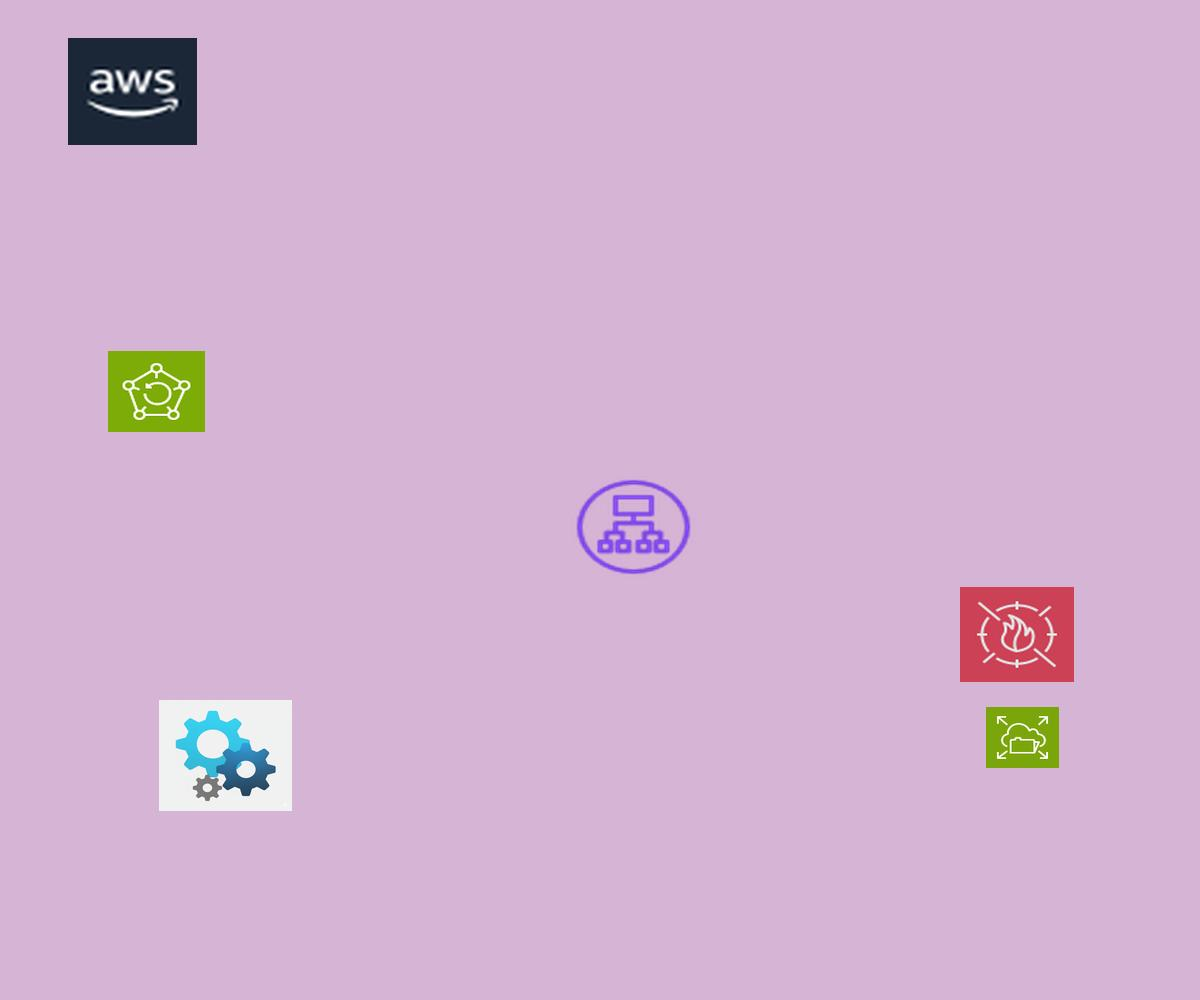AWS-Backup: (108, 351, 205, 432)
AWS-Cloud-logo: (68, 38, 197, 145)
AWS-EFS: (986, 707, 1059, 768)
AWS-Res_Elastic-Load-Balancing_Application-Load-Balancer: (572, 476, 695, 578)
AWS-WAF: (960, 587, 1074, 682)
Azure_api: (159, 700, 292, 811)
